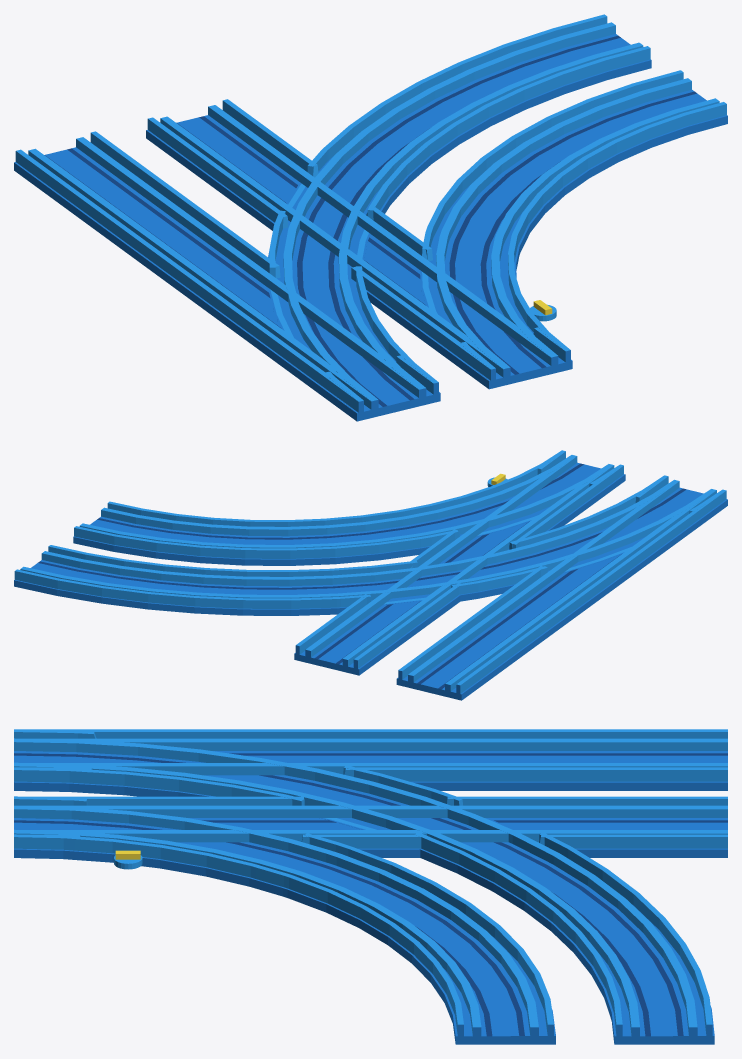
The model's file is Track_Double_Turnout_Right.fbx.
3 views of the same model, one above another, from view 1: azimuth 30°, elevation 25°; view 2: azimuth 150°, elevation 25°; view 3: azimuth 270°, elevation 25° (orthographic). The views are drawn at different scales.
Visible parts, largest first — view 1: Molded blue rail 1 branch, Molded blue rail 2 branch, Molded blue rail 1 straight, Molded blue rail 2 straight; view 2: Molded blue rail 1 branch, Molded blue rail 2 branch, Molded blue rail 1 straight, Molded blue rail 2 straight; view 3: Molded blue rail 1 branch, Molded blue rail 2 branch, Molded blue rail 1 straight, Molded blue rail 2 straight.
Boxes of the visible parts, bbox=[...] form: Molded blue rail 1 branch: bbox=[268, 14, 651, 413]; Molded blue rail 2 branch: bbox=[420, 70, 727, 381]; Molded blue rail 1 straight: bbox=[14, 131, 433, 421]; Molded blue rail 2 straight: bbox=[146, 99, 565, 389]; Molded blue rail 1 branch: bbox=[14, 475, 727, 615]; Molded blue rail 2 branch: bbox=[73, 450, 624, 565]; Molded blue rail 1 straight: bbox=[396, 477, 727, 700]; Molded blue rail 2 straight: bbox=[294, 451, 625, 675]; Molded blue rail 1 branch: bbox=[14, 729, 714, 1044]; Molded blue rail 2 branch: bbox=[14, 796, 555, 1044]; Molded blue rail 1 straight: bbox=[20, 729, 727, 790]; Molded blue rail 2 straight: bbox=[26, 796, 727, 857].
Size of the model in its own units: 736 by 23.31 by 750.
